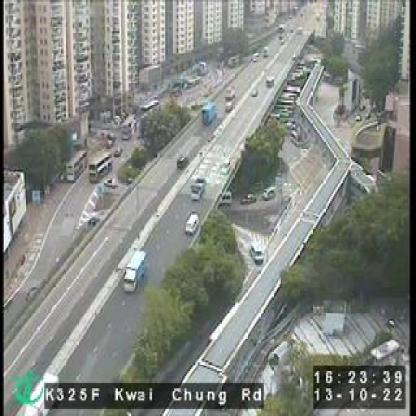Bus: (86, 152, 110, 183), (68, 153, 87, 182)
Car: (249, 240, 266, 264), (185, 209, 199, 235), (192, 177, 206, 199), (178, 154, 189, 169), (226, 85, 236, 99), (225, 100, 234, 111), (251, 86, 259, 96), (266, 74, 273, 85)
Truck: (123, 250, 148, 294), (200, 101, 216, 126)
